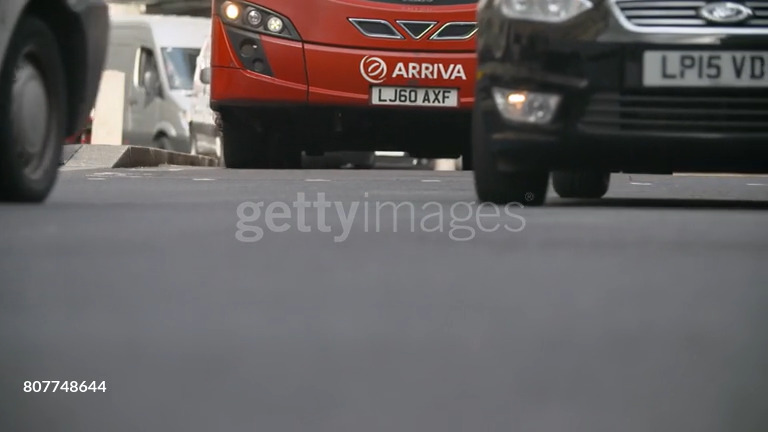car number: (639, 49, 765, 85), (370, 84, 457, 105)
